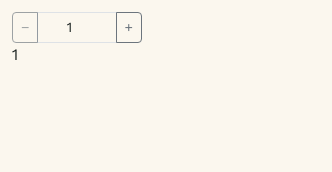
Simulación de eventos › un clic en el botón + cambia el estado del componente (y respeta el máximo)
The image size is (332, 172).
Click the button named "Aumentar": point(129, 28) [116, 12, 142, 43]
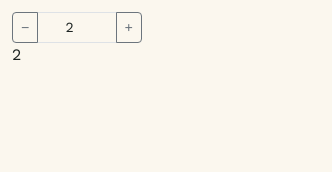
Now the text with test id "estado" reads "2", box [12, 45, 21, 64]
Replace the text in the number field with "99": point(77, 28) [38, 12, 117, 43]
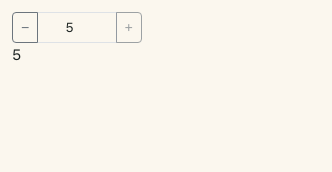
Now the text with test id "estado" reads "5", box [12, 45, 21, 64]
